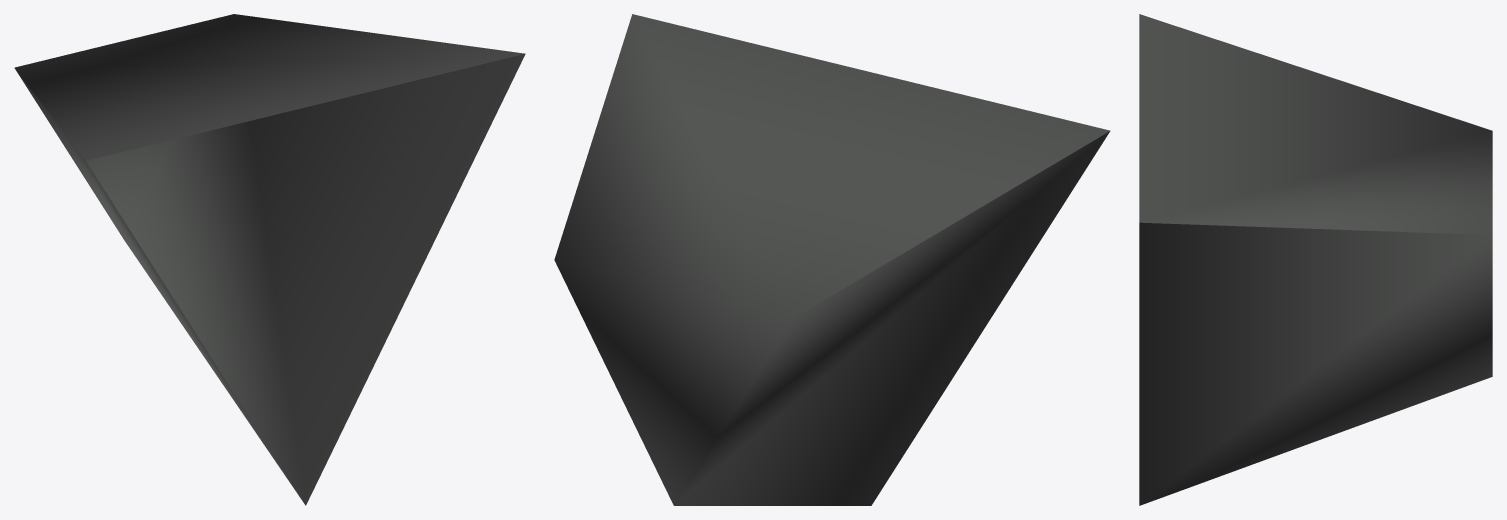
File: Tree Stump.fbx
3 renders of one model, left to right at view 1: azimuth 30°, elevation 25°; view 2: azimuth 150°, elevation 25°; view 3: azimuth 270°, elevation 25°, orthographic. The views are drawn at different scales.
Visible parts, largest first — view 1: Circle; view 2: Circle; view 3: Circle.
Boxes of the visible parts, x1,y1,x2,y2 form: Circle: (14,14,525,505); Circle: (554,14,1110,505); Circle: (1139,14,1492,505).
Bounding box in the file's own units: 66.11 × 57.25 × 47.29.
